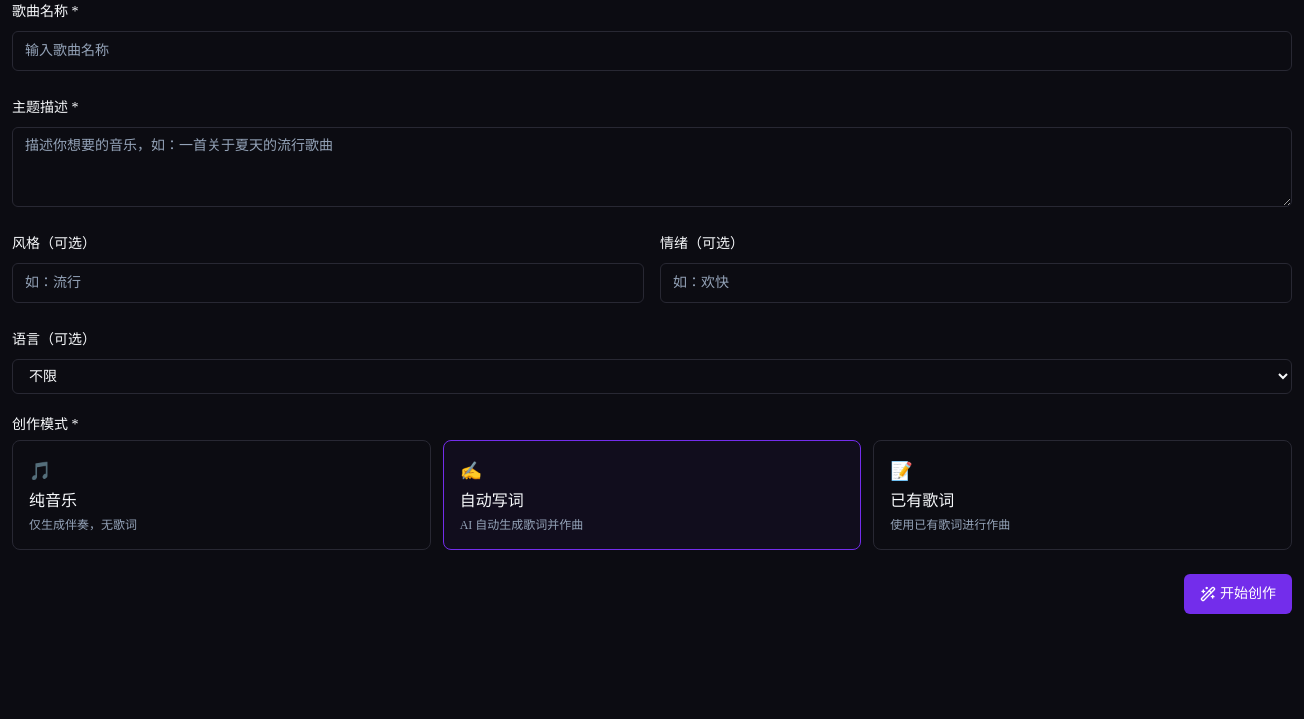
Test: SongCreateForm › shows conditional lyricId error when existing_lyric mode selected
Select existing_lyric mode
What coordinates should you click on to do the following:
click the text "已有歌词"
I would click on:
 (922, 500)
Its box is [890,492,954,509].
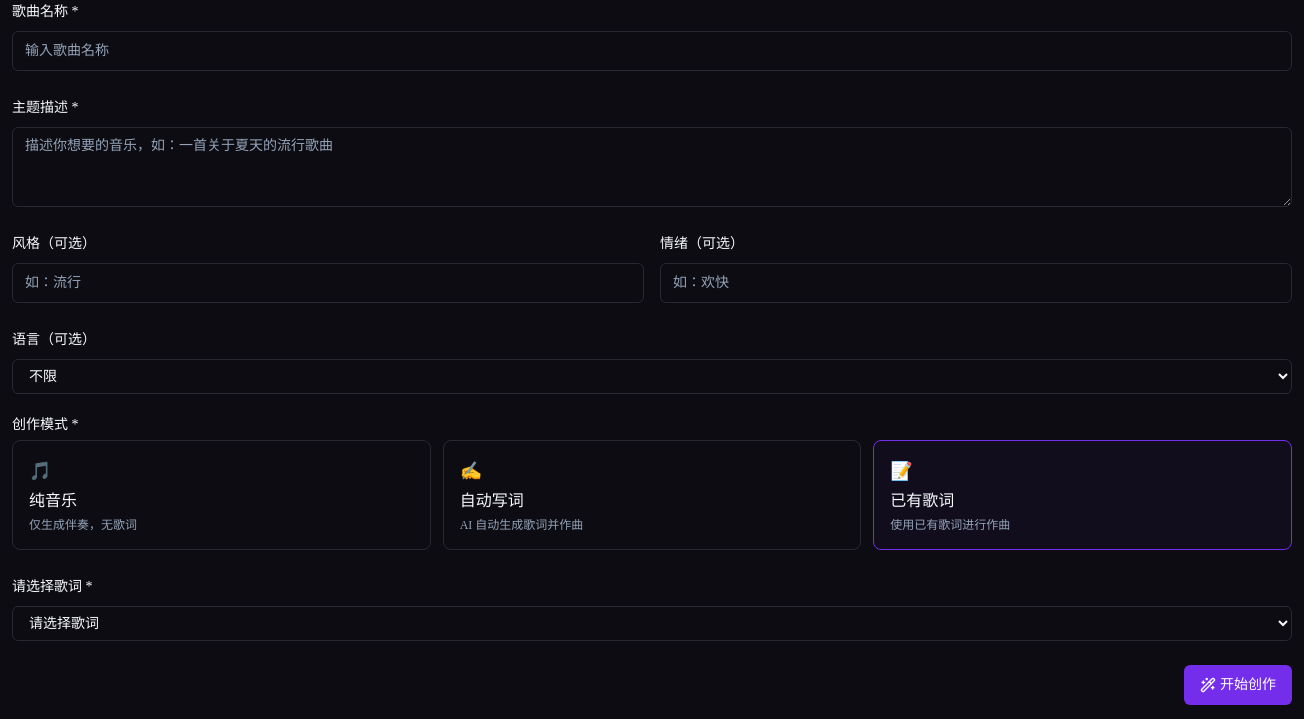
What coordinates should you click on to do the following:
click the button "开始创作"
I would click on:
 (1238, 685)
Its box is [1184,665,1292,705].
(page scrolled)
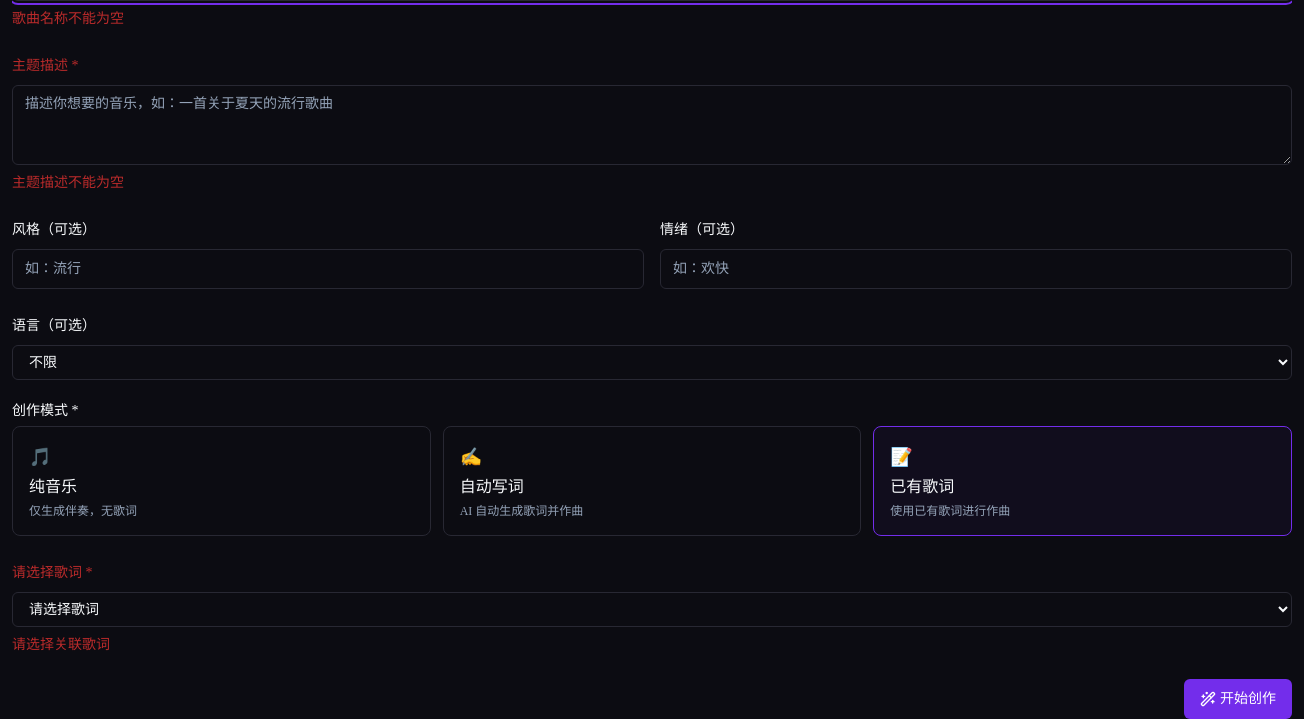
Expected: the text "请选择关联歌词" is shown, [12,637,110,652]
